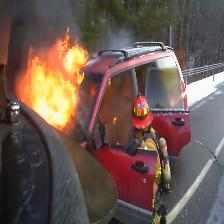fire: (18, 32, 101, 150)
nofire: (75, 105, 159, 223), (133, 94, 158, 136)
smoke: (1, 0, 167, 55)
